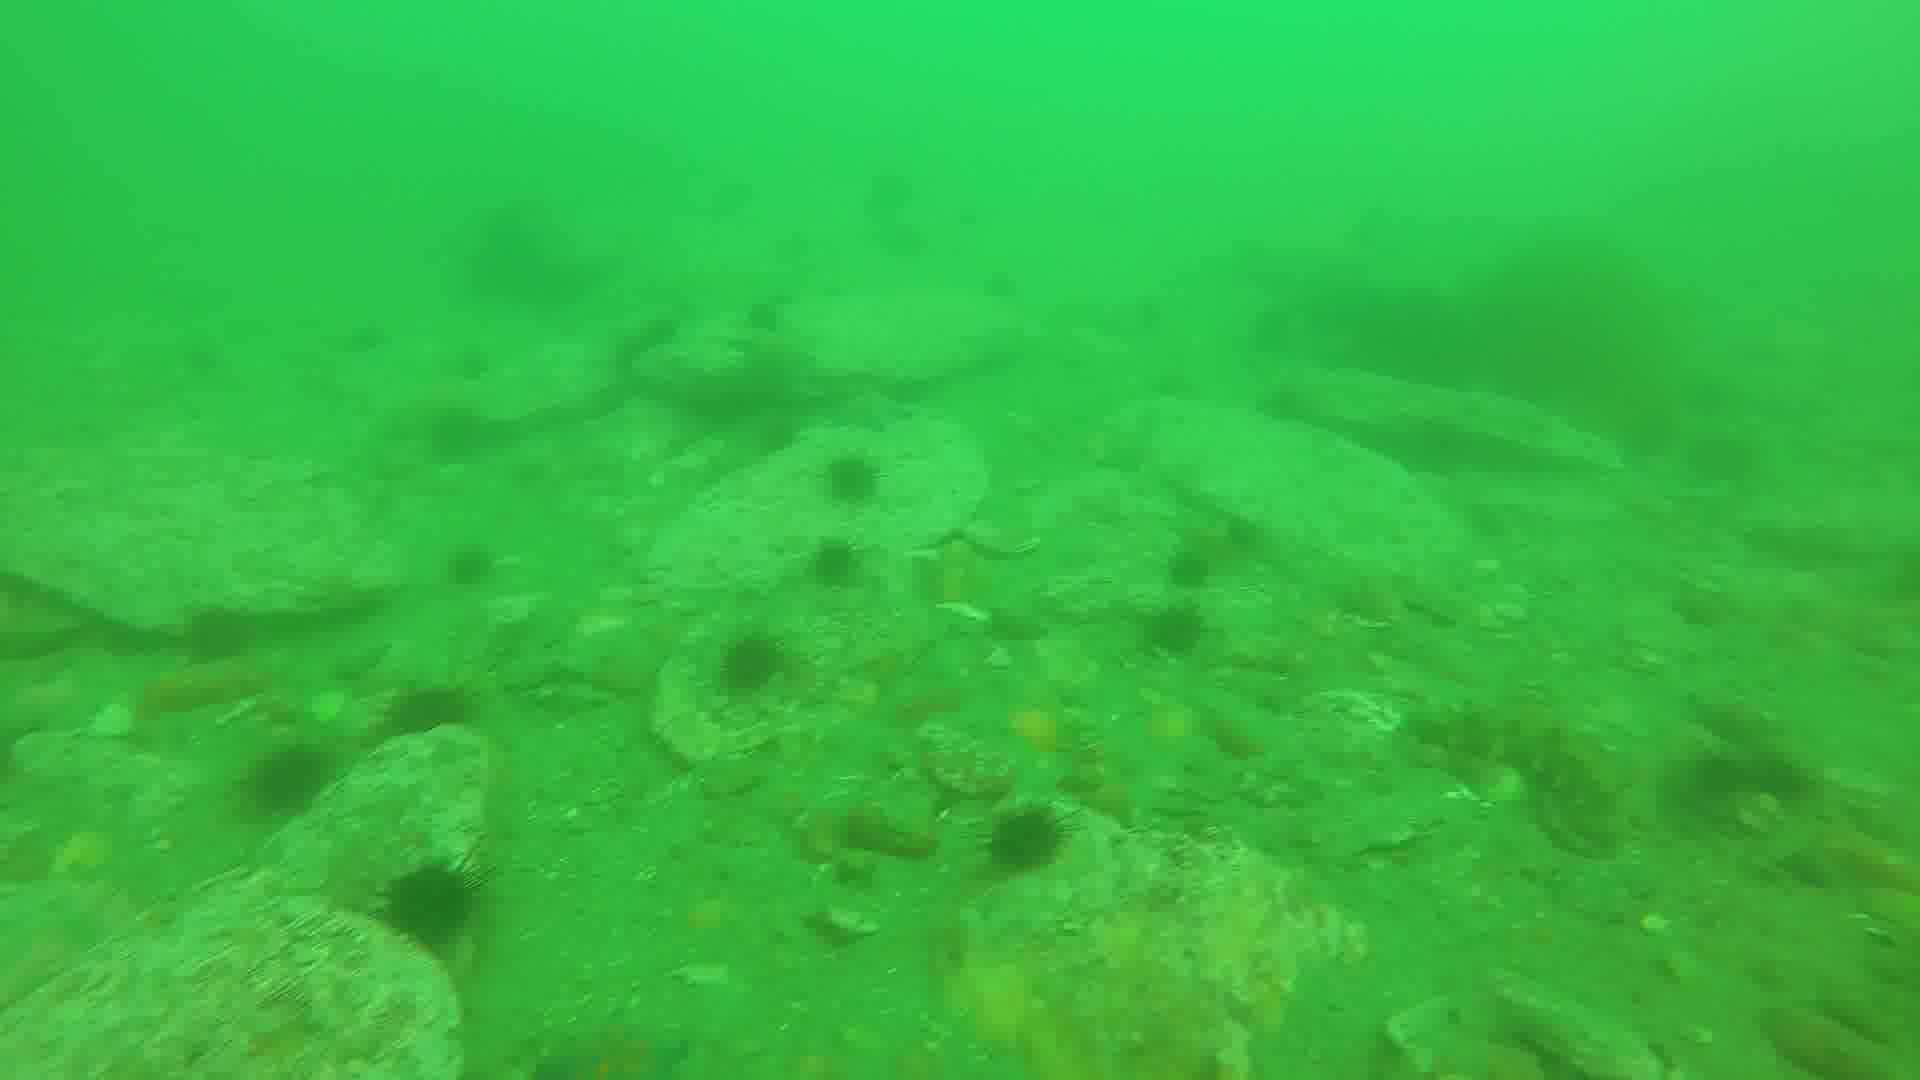echinus: (384, 865, 480, 949), (247, 748, 338, 812), (988, 808, 1069, 873), (1743, 748, 1822, 810), (1687, 742, 1746, 822), (394, 688, 479, 738), (425, 405, 485, 473), (185, 616, 249, 669), (731, 636, 781, 692), (750, 414, 812, 458), (1145, 605, 1196, 651), (833, 462, 885, 508), (808, 535, 855, 585), (1179, 549, 1218, 592), (454, 550, 502, 584)
holothurian: (1412, 700, 1636, 847)
